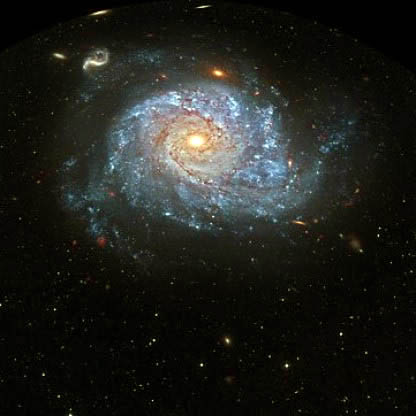NGC 1309: (53, 40, 372, 268)
